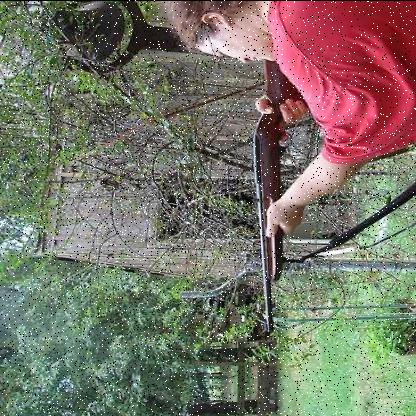rifle: (208, 36, 315, 359)
